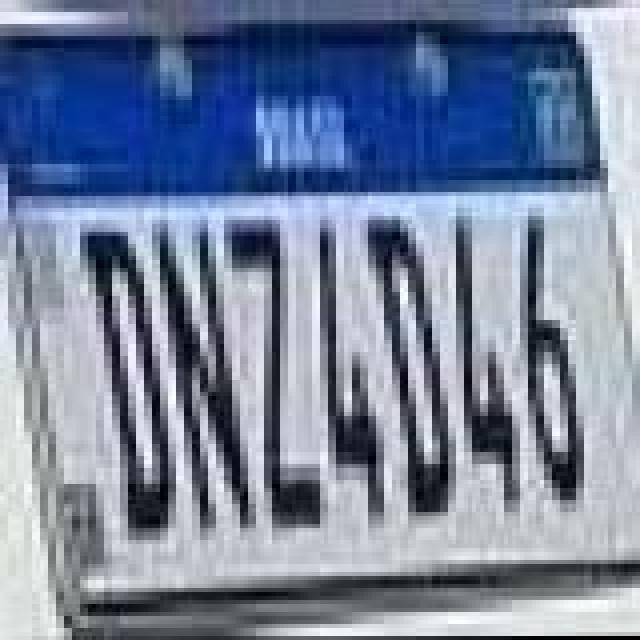4: (316, 220, 388, 528), (452, 218, 524, 514)
6: (520, 212, 592, 508)
D: (80, 228, 176, 548), (364, 212, 460, 520)
N: (156, 222, 260, 542)
Z: (224, 220, 328, 528)
